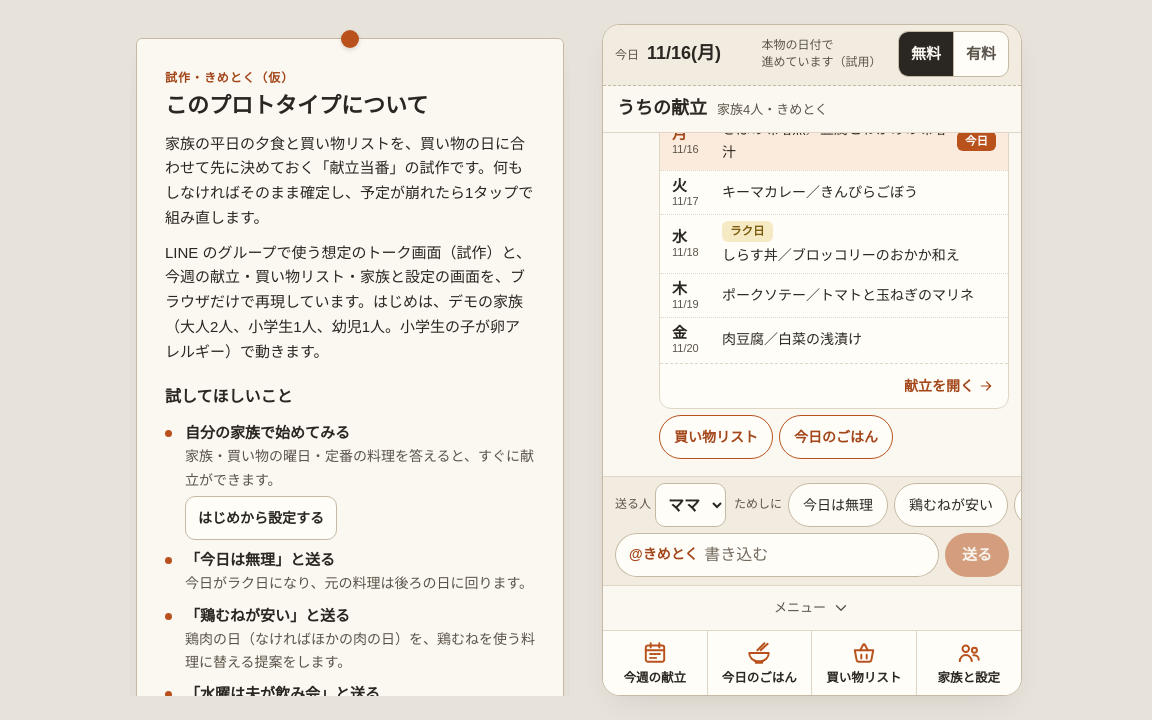
Scenario: 試用モード（本物の日付で進める） › ［翌日へ進む］を出さず、その場所に「本物の日付で進めています（試用）」と出す
The width and height of the screenshot is (1152, 720).
(page scrolled)
Expected: the element with test id "clock-note" reads "本物の日付で進めています（試用）", top-left (762, 37), bottom-right (890, 71)
Expected: the text "今日" next to "11/16(月)" is shown, top-left (615, 48), bottom-right (639, 62)
Note: 有料に切り替えたときの知らせも、［翌日へ進む］と言わない
Click the button "有料": [980, 54] box top-left (953, 32), bottom-right (1008, 76)
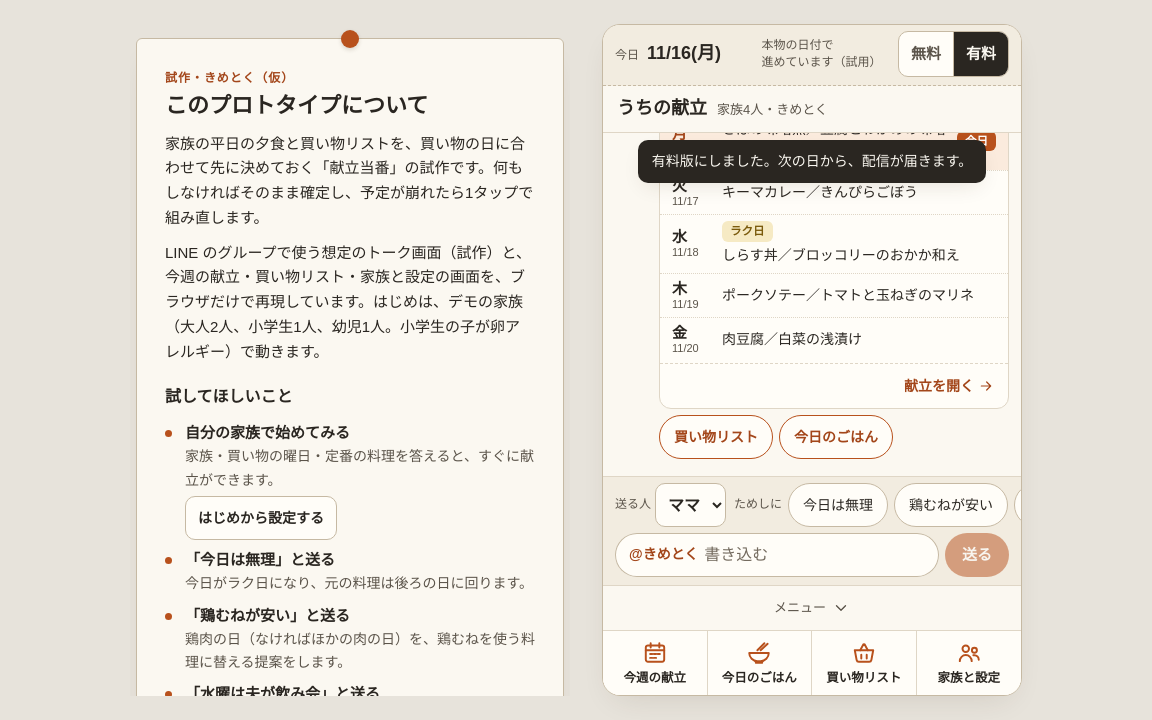
Expected: the text "有料版にしました。次の日から、配信が届きます。" is shown, top-left (638, 140), bottom-right (986, 183)
